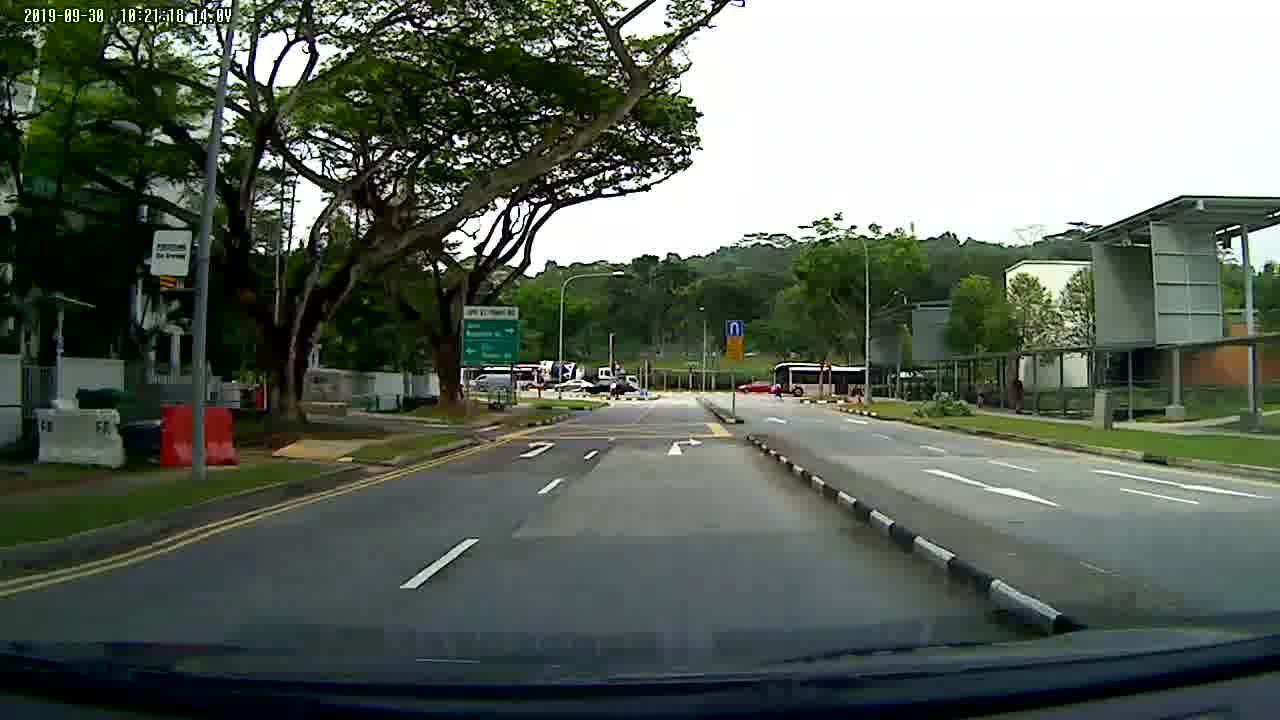bus: (772, 361, 864, 399)
car: (551, 378, 594, 392), (735, 378, 772, 392)
